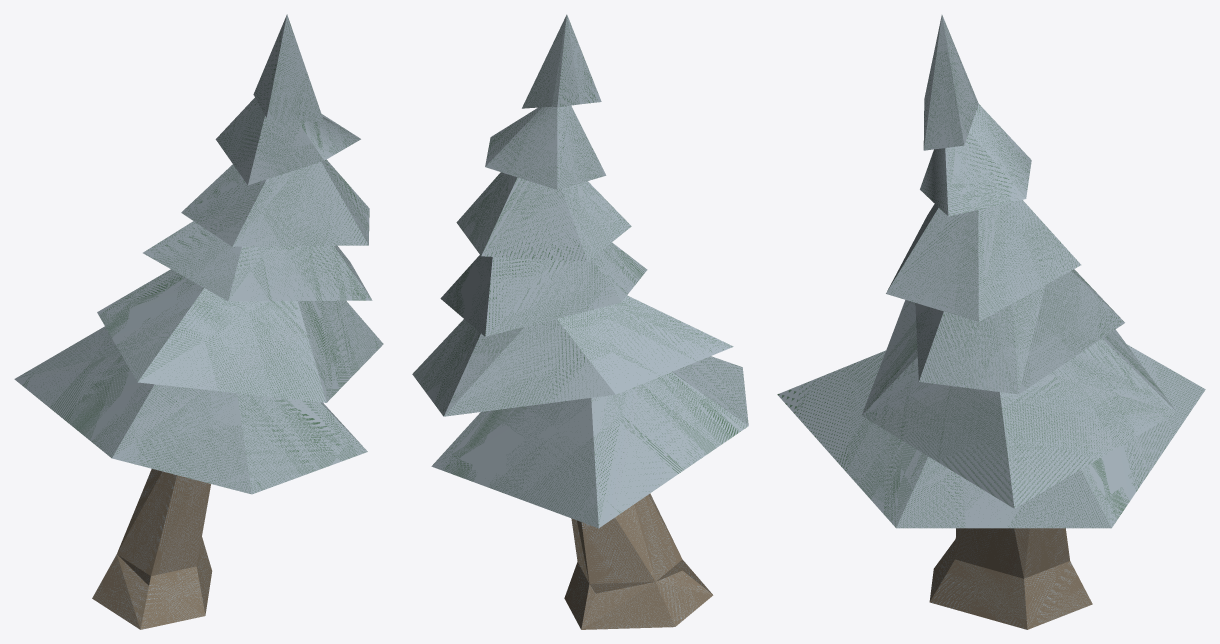
The model's file is Tree_Pine_Tall_03.fbx.
3 views of the same model, side by side, from view 1: azimuth 30°, elevation 25°; view 2: azimuth 150°, elevation 25°; view 3: azimuth 270°, elevation 25° (orthographic). The views are drawn at different scales.
Parts seen in each view (by area): view 1: Model; view 2: Model; view 3: Model.
Boxes of the visible parts, x1=… form: Model: x1=14, y1=14, x2=383, y2=629; Model: x1=412, y1=14, x2=748, y2=629; Model: x1=777, y1=15, x2=1205, y2=629.
Size of the model in its own units: 882 by 1553 by 950.
